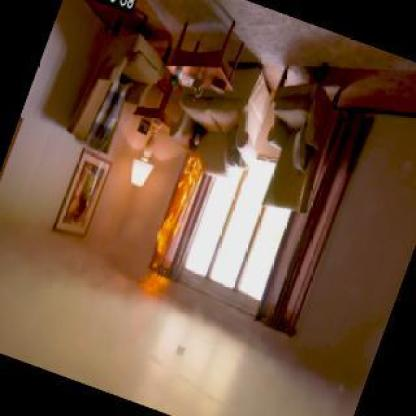Fire: (145, 160, 206, 300)
